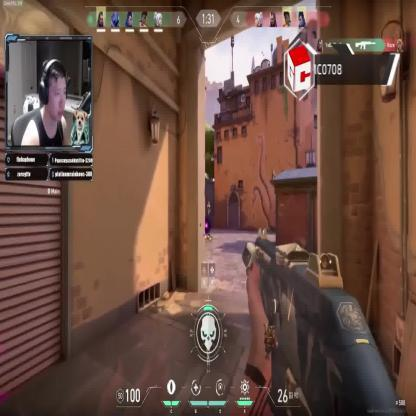enemy: (207, 200, 210, 215)
enemy_head: (208, 201, 210, 204)
